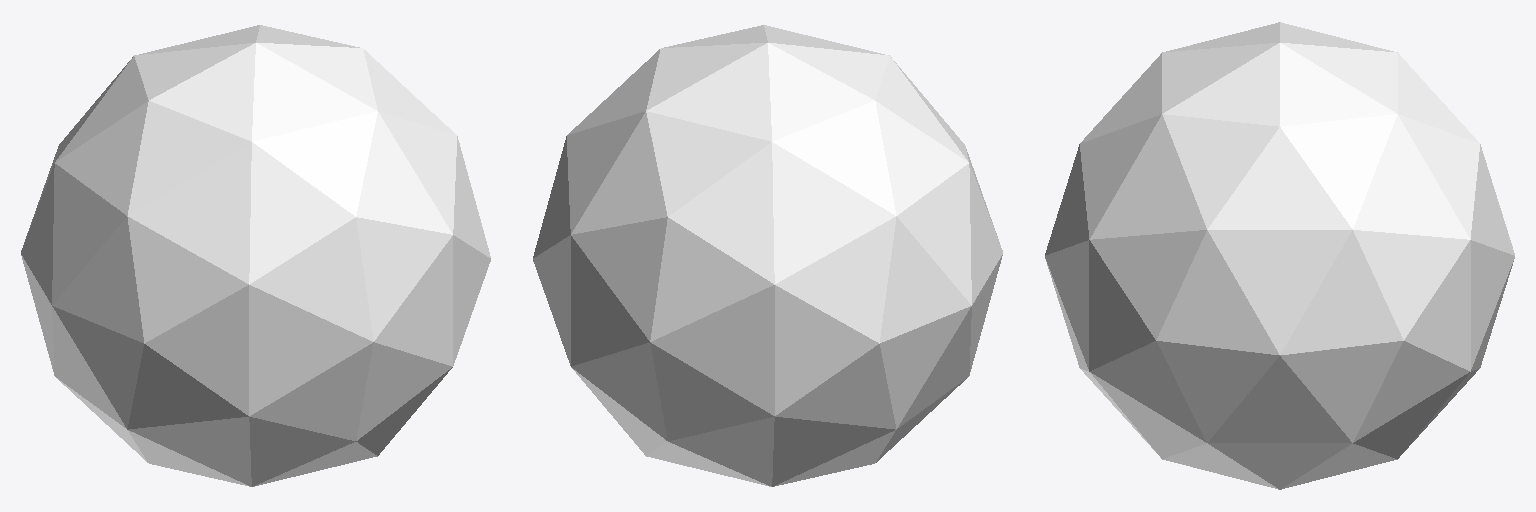
File: DoorKnob.obj
The picture shows the model from 3 angles: view 1: azimuth 30°, elevation 25°; view 2: azimuth 150°, elevation 25°; view 3: azimuth 270°, elevation 25°; orthographic projection.
Visible parts, largest first — view 1: DoorKnob; view 2: DoorKnob; view 3: DoorKnob.
Boxes of the visible parts, box(x1,y1,x2,y2) form: DoorKnob: box(21, 25, 490, 486); DoorKnob: box(533, 25, 1002, 486); DoorKnob: box(1045, 22, 1514, 489).
Bounding box in the file's own units: 0.125 × 0.125 × 0.125.